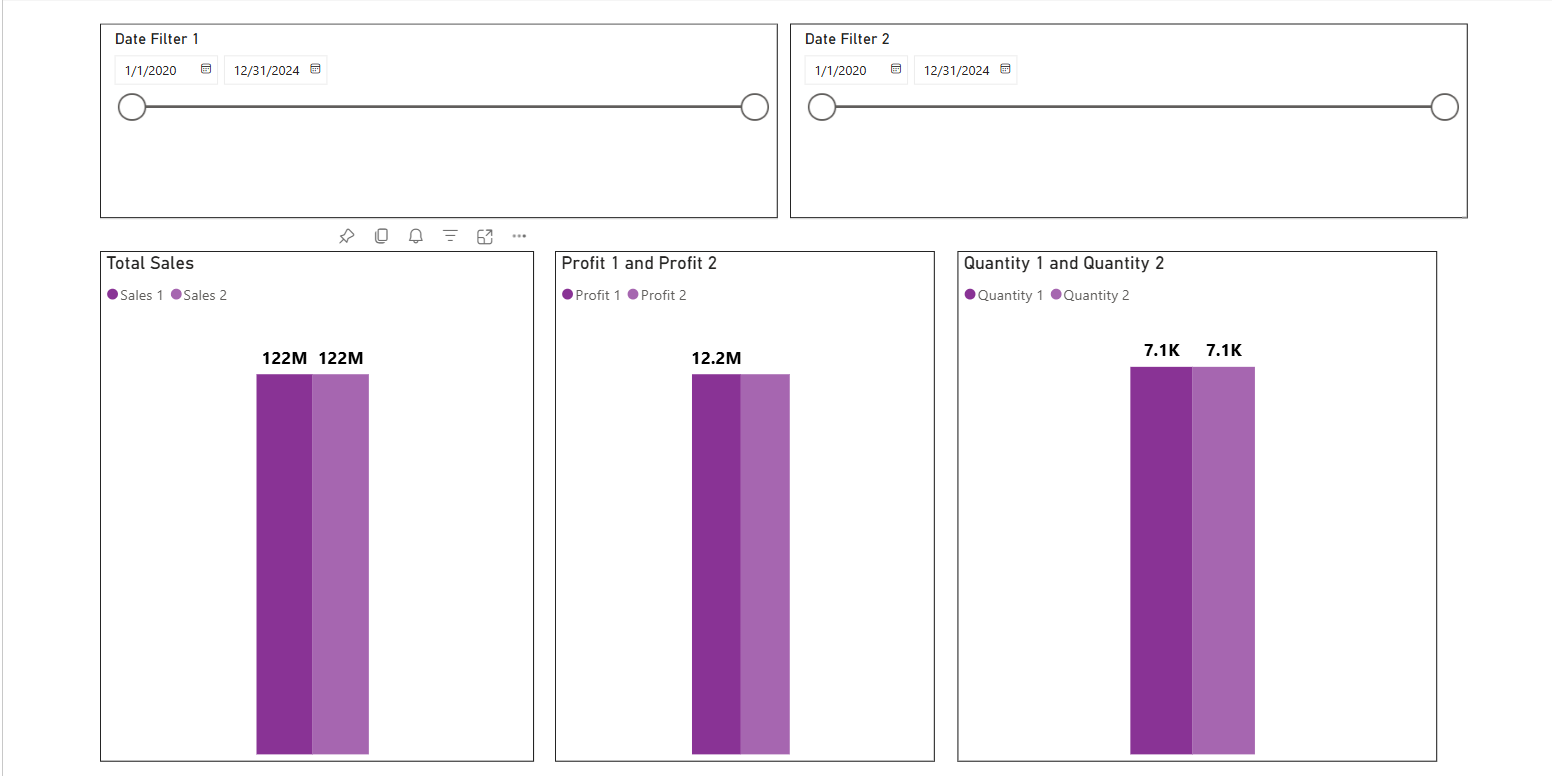

Layout of this report page (visuals, bound fields, positions):
{"tool":"powerbi","page":{"name":"Comparison Sales/Profit/Quantity ","canvas":[1280,720],"ordinal":2},"visuals":[{"type":"slicer","fields":{"Values":["Date Table 1.Date"]},"box":[9.6,20.6,629.8,181.1],"z":0},{"type":"clusteredColumnChart","title":"Total Sales","fields":{"Y":["Sum(Fact Table.Net Sales)","Date Table 2.Sum of Net Sales"]},"box":[9.6,231.9,403.4,474.8],"z":1000},{"type":"slicer","fields":{"Values":["Date Table 2.Date"]},"box":[650.4,20.6,629.8,181.1],"z":2000},{"type":"clusteredColumnChart","fields":{"Y":["Sum(Fact Table.Profit)","Measure Table.Total Profit"]},"box":[432.2,231.9,352.7,474.8],"z":3000},{"type":"clusteredColumnChart","fields":{"Y":["Sum(Fact Table.Units Sold)","Measure Table.Units Sold"]},"box":[805.5,231.9,446,474.8],"z":4000}]}

Visuals, with their boxes on the page's 1280x720 design canvas (x1, y1, x2, y2). These are canvas units, not pixel positions in the 1552x776 screenshot, which may show the page scaled, cropped or inside an application window:
slicer - Date Table 1.Date: crop(10, 21, 639, 202)
"Total Sales" clusteredColumnChart: crop(10, 232, 413, 707)
slicer - Date Table 2.Date: crop(650, 21, 1280, 202)
clusteredColumnChart - Sum(Fact Table.Profit) x Measure Table.Total Profit: crop(432, 232, 785, 707)
clusteredColumnChart - Sum(Fact Table.Units Sold) x Measure Table.Units Sold: crop(806, 232, 1252, 707)
